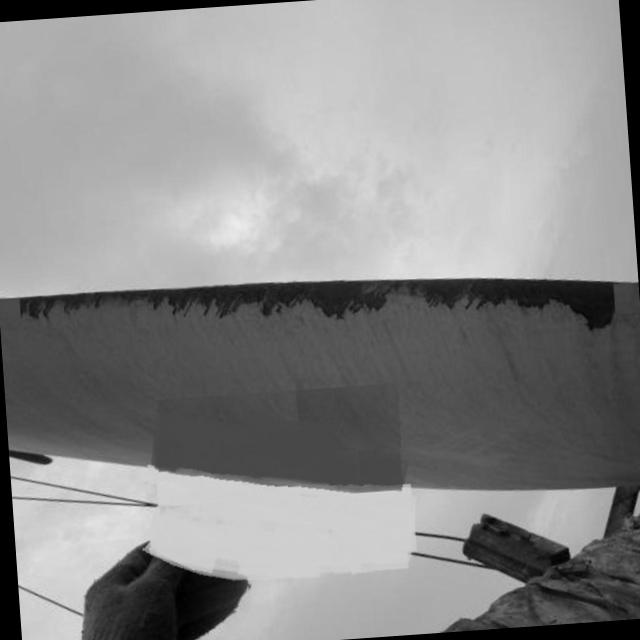corrosion: (272, 258, 620, 348), (15, 278, 264, 325)
